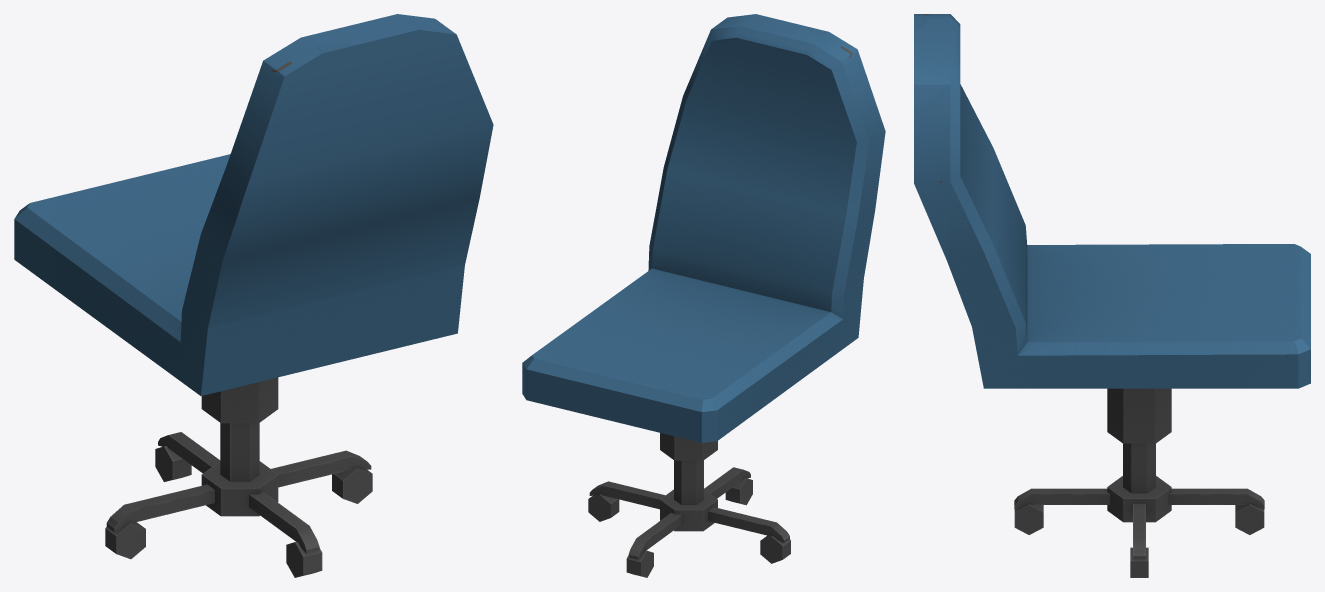
The model's file is chair03.fbx.
The picture shows the model from 3 angles, left to right: view 1: azimuth 30°, elevation 25°; view 2: azimuth 150°, elevation 25°; view 3: azimuth 270°, elevation 25°; orthographic projection. The views are drawn at different scales.
Parts seen in each view (by area): view 1: polySurface173; view 2: polySurface173; view 3: polySurface173.
Part boxes in pixels (left/top/right/bottom): polySurface173: left=14, top=14, right=493, bottom=577; polySurface173: left=522, top=14, right=885, bottom=577; polySurface173: left=914, top=14, right=1310, bottom=577.
Size of the model in its own units: 8.91 by 19.23 by 14.03.
Materials: 1 (1 with a texture image).
